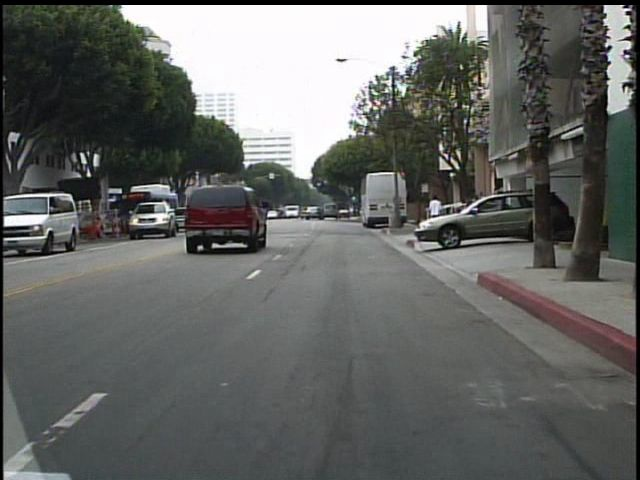person: (424, 192, 446, 237)
